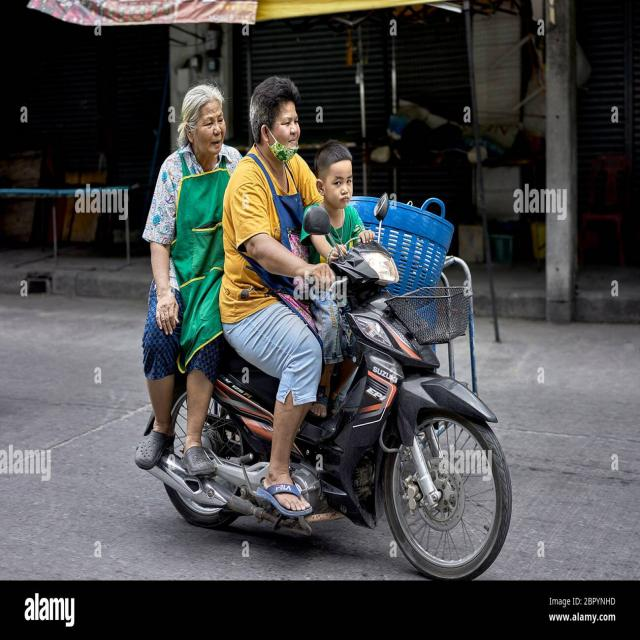Not Wearing Helmet: (238, 60, 315, 181)
Triple Riding: (158, 47, 558, 582)
